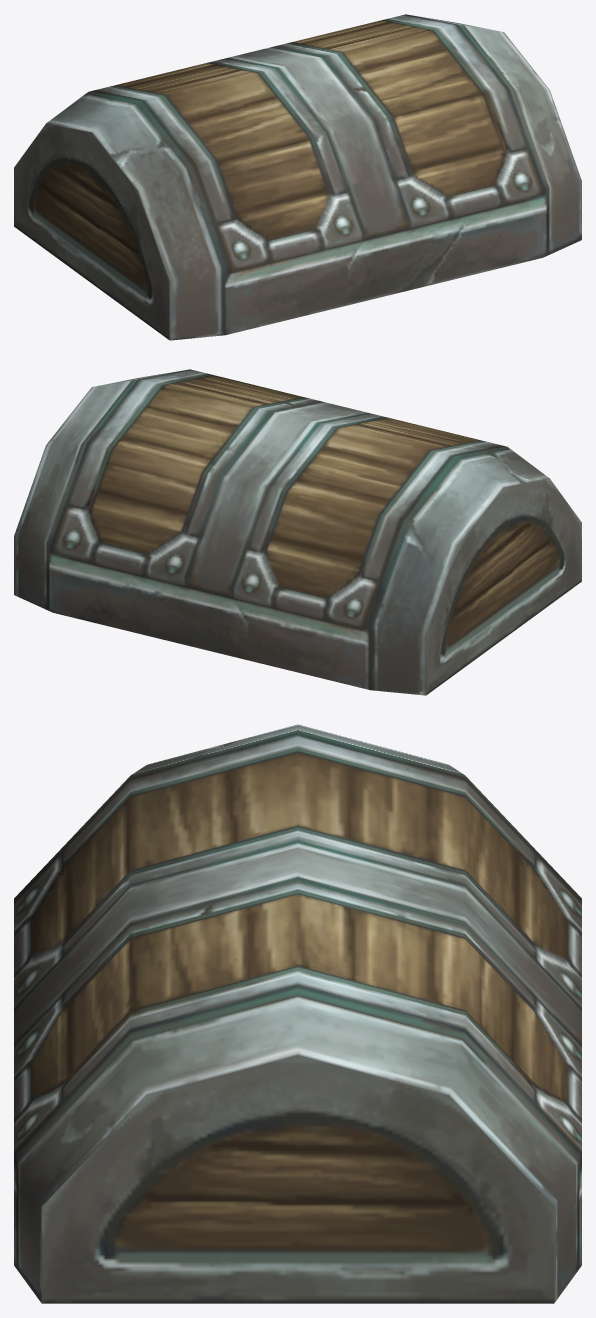
The model's file is Treasure_Chest_lid_01.FBX.
The picture shows the model from 3 angles, top to bottom: view 1: azimuth 30°, elevation 25°; view 2: azimuth 150°, elevation 25°; view 3: azimuth 270°, elevation 25°; orthographic projection. The views are drawn at different scales.
Parts seen in each view (by area): view 1: Treasure_Chest_lid_01; view 2: Treasure_Chest_lid_01; view 3: Treasure_Chest_lid_01.
Boxes of the visible parts, x1,y1,x2,y2 form: Treasure_Chest_lid_01: [14, 14, 581, 340]; Treasure_Chest_lid_01: [14, 369, 581, 695]; Treasure_Chest_lid_01: [14, 724, 581, 1303].
Bounding box in the file's own units: 88.87 × 64.47 × 35.05.
